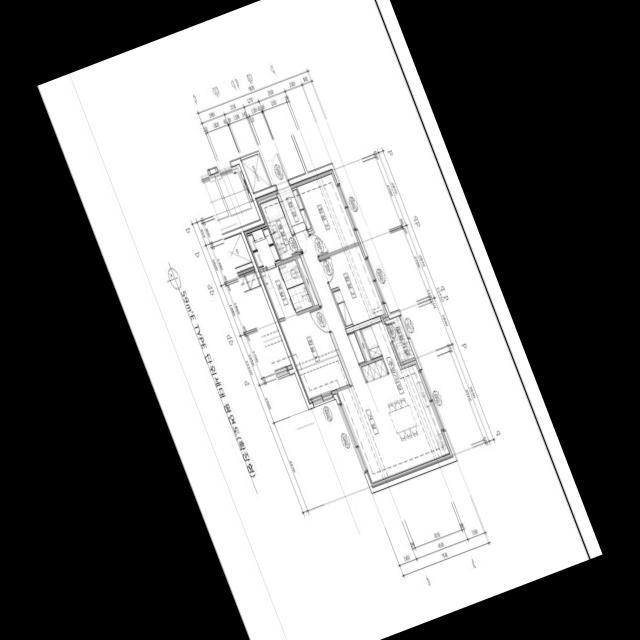background: (37, 0, 603, 640)
space_bedroom: (261, 266, 349, 403), (320, 245, 387, 329), (297, 173, 359, 258)
space_elevator: (214, 164, 260, 229), (201, 174, 235, 234)
space_elevator_hall: (197, 135, 305, 186)
space_front: (277, 186, 311, 234)
space_kitchen: (361, 321, 451, 472)
space_living_room: (295, 230, 400, 483)
space_other: (246, 227, 280, 269), (241, 154, 271, 193), (296, 257, 319, 306), (355, 330, 371, 362)
space_outdoor_room: (385, 316, 414, 362)
space_toilet: (260, 197, 299, 261), (278, 259, 313, 312)
